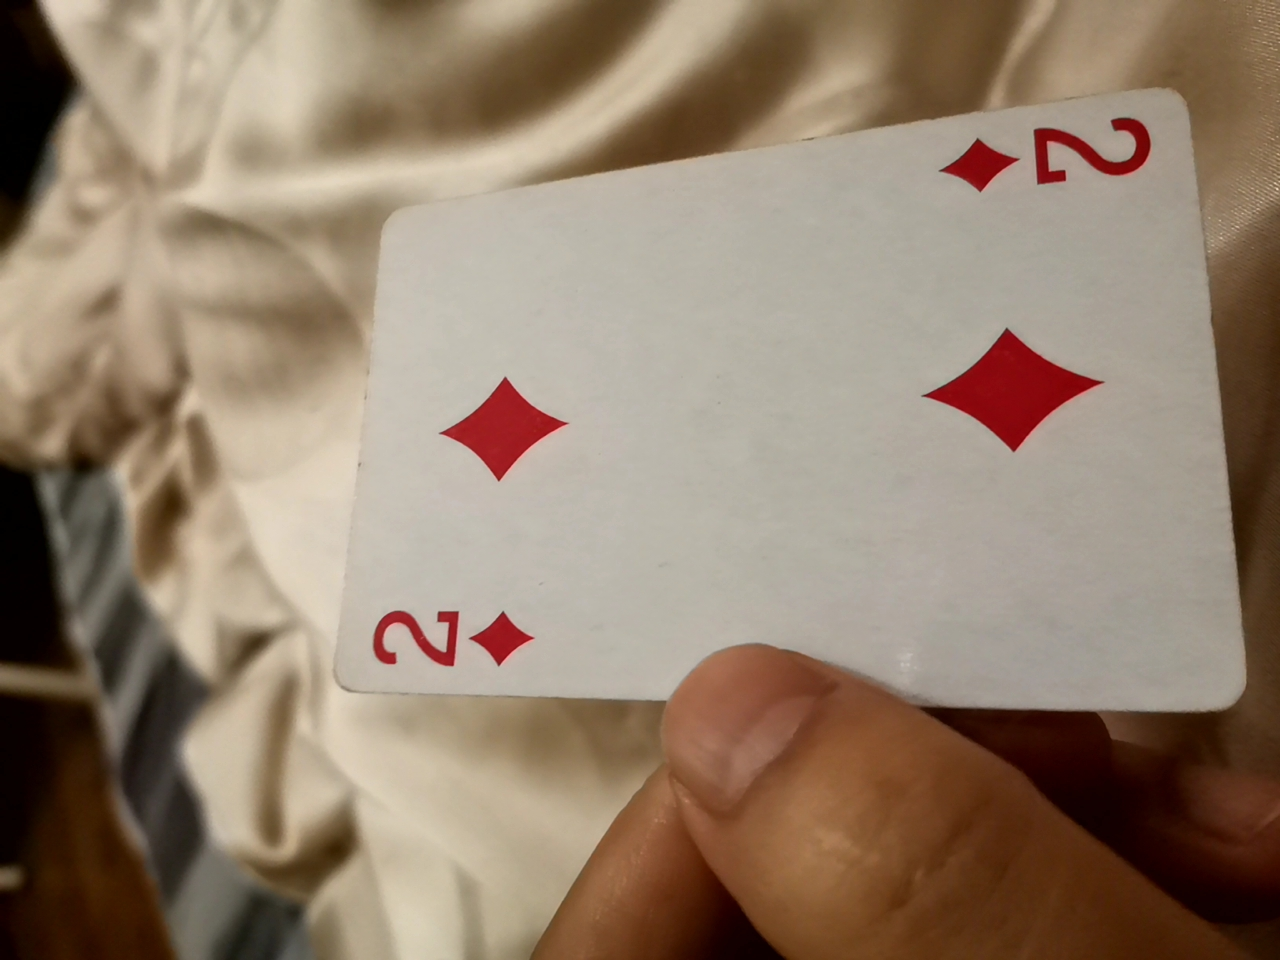fk 2: (324, 67, 1229, 739)
